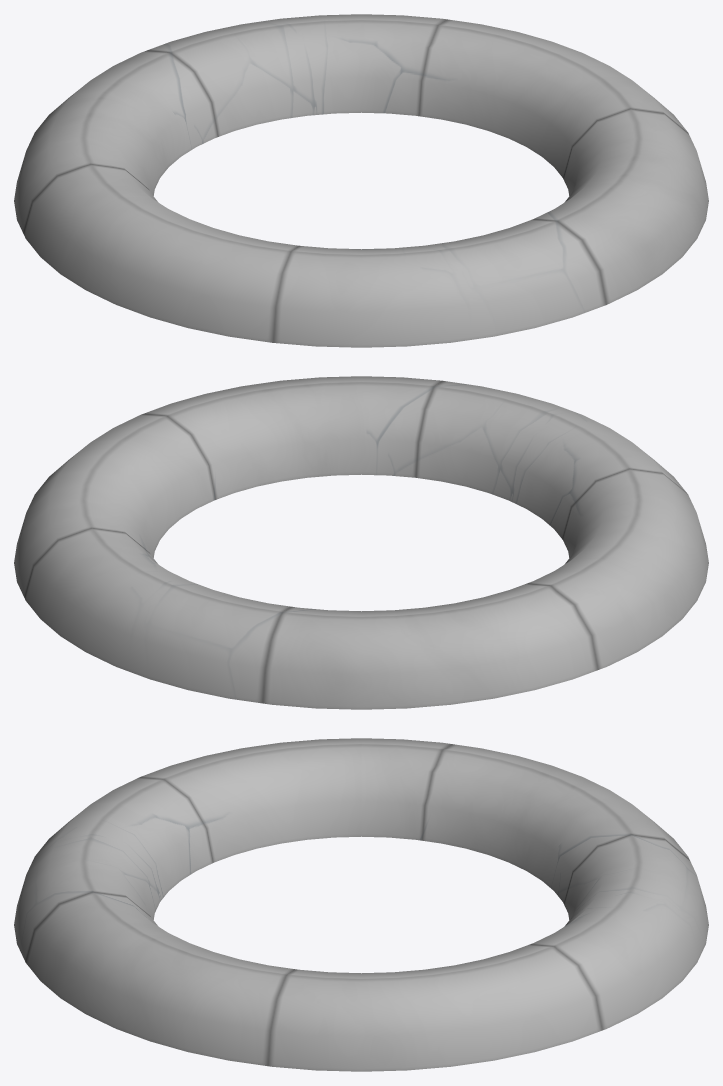
File: Trim_Stone_HalfCylinder01.fbx
3 renders of one model, top to bottom at view 1: azimuth 30°, elevation 25°; view 2: azimuth 150°, elevation 25°; view 3: azimuth 270°, elevation 25°, orthographic.
Visible parts, largest first — view 1: Trim_Stone_HalfCylinder01; view 2: Trim_Stone_HalfCylinder01; view 3: Trim_Stone_HalfCylinder01.
Part boxes in pixels (left/top/right/bottom): Trim_Stone_HalfCylinder01: left=14, top=14, right=708, bottom=347; Trim_Stone_HalfCylinder01: left=14, top=376, right=708, bottom=709; Trim_Stone_HalfCylinder01: left=14, top=738, right=708, bottom=1071.
Bounding box in the file's own units: 250 × 25 × 250.
